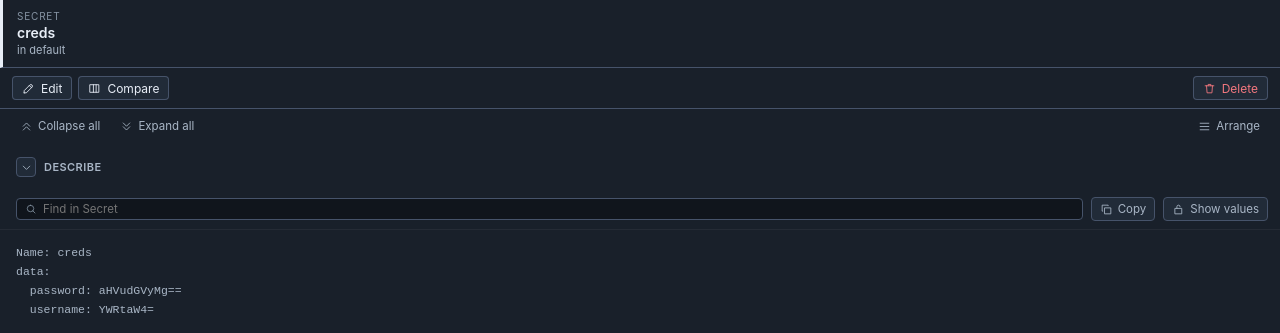
Test: the report can be searched, and says how many matches there are
The image size is (1280, 333).
Type "name" into the field named "Find in this report".
click(558, 209); type("name")  # box [43,202,1074,216]
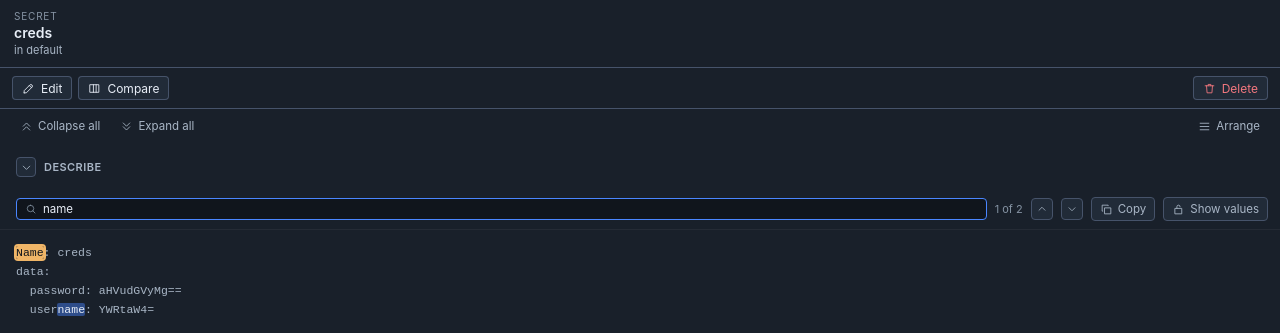
Expected: the text "1 of 2" is shown, [995,202,1023,216]
